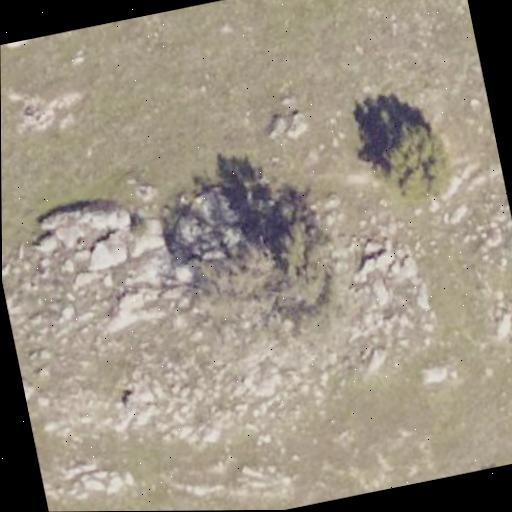tree-top: (167, 211, 364, 384), (364, 115, 469, 217)
